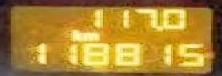-: (153, 25, 159, 30)
0: (159, 8, 184, 28)
1: (159, 41, 173, 65), (33, 42, 46, 63), (64, 42, 77, 63), (115, 7, 128, 27), (88, 8, 99, 27)
7: (130, 7, 155, 27)
8: (79, 41, 108, 64), (111, 41, 140, 64)
X: (68, 27, 82, 40), (82, 30, 97, 40)
